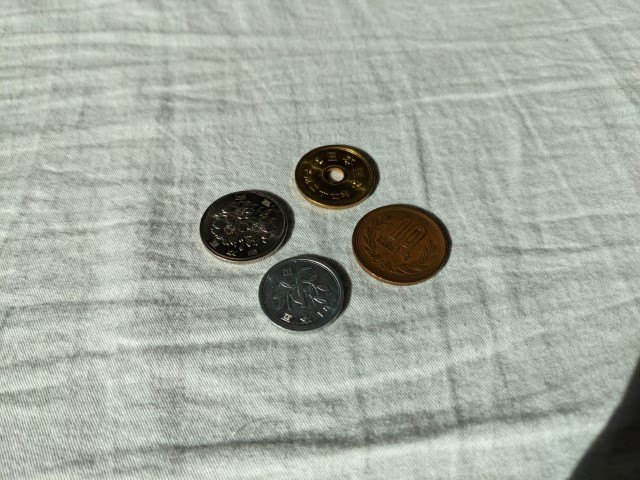100yen: (200, 191, 288, 264)
10yen: (352, 205, 447, 285)
1yen: (259, 256, 344, 333)
5yen: (295, 145, 375, 209)
